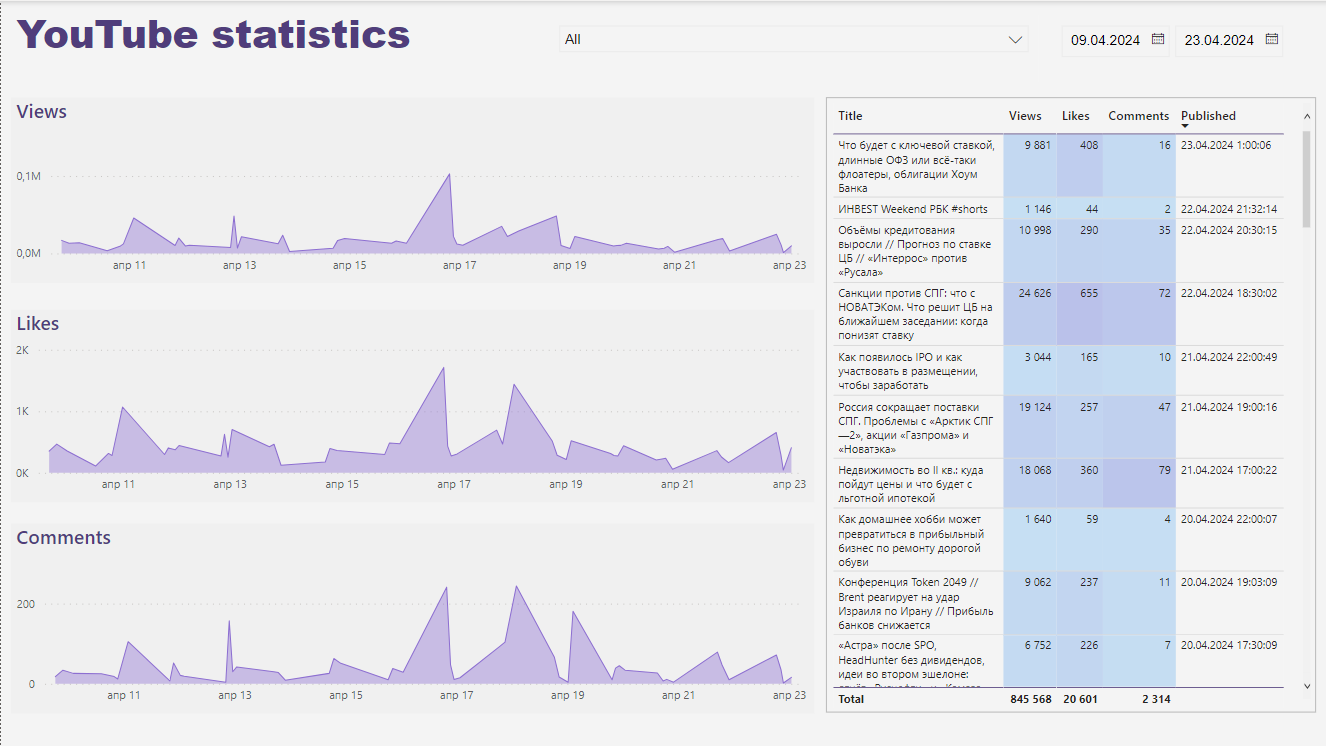

The dashboard page shown, as its layout file describes it:
{"tool":"powerbi","page":{"name":"Page 1","canvas":[1280,720],"ordinal":0},"visuals":[{"type":"textbox","box":[9.6,0,519.7,78.6],"z":0},{"type":"areaChart","title":"Views","fields":{"Category":["YouTube.publishedAt"],"Y":["Sum(YouTube.viewCount)"]},"box":[9.3,92.8,775.2,178.9],"z":1000},{"type":"areaChart","title":"Likes","fields":{"Category":["YouTube.publishedAt"],"Y":["Sum(YouTube.likeCount)"]},"box":[9.3,298.1,775.2,185.5],"z":2000},{"type":"areaChart","title":"Comments","fields":{"Category":["YouTube.publishedAt"],"Y":["Sum(YouTube.commentCount)"]},"box":[9.3,503.5,775.2,182.9],"z":3000},{"type":"tableEx","fields":{"Values":["YouTube.title","Sum(YouTube.viewCount)","Sum(YouTube.likeCount)","Sum(YouTube.commentCount)","YouTube.publishedAt"]},"box":[796.4,92.8,473,593.6],"z":4000},{"type":"slicer","fields":{"Values":["YouTube.publishedAt"]},"box":[1011,13.3,258.4,64.9],"z":5000},{"type":"slicer","fields":{"Values":["YouTube.title"]},"box":[528.7,13.3,473,64.9],"z":6000}]}

Visuals, with their boxes in screenshot pixels (x1, y1, x2, y2), scaled from the page's 1280x720 canvas onto the 1326x746 screenshot:
textbox: {"left": 10, "top": 0, "right": 548, "bottom": 81}
"Views" areaChart: {"left": 10, "top": 96, "right": 813, "bottom": 282}
"Likes" areaChart: {"left": 10, "top": 309, "right": 813, "bottom": 501}
"Comments" areaChart: {"left": 10, "top": 522, "right": 813, "bottom": 711}
tableEx - YouTube.title x Sum(YouTube.viewCount): {"left": 825, "top": 96, "right": 1315, "bottom": 711}
slicer - YouTube.publishedAt: {"left": 1047, "top": 14, "right": 1315, "bottom": 81}
slicer - YouTube.title: {"left": 548, "top": 14, "right": 1038, "bottom": 81}
